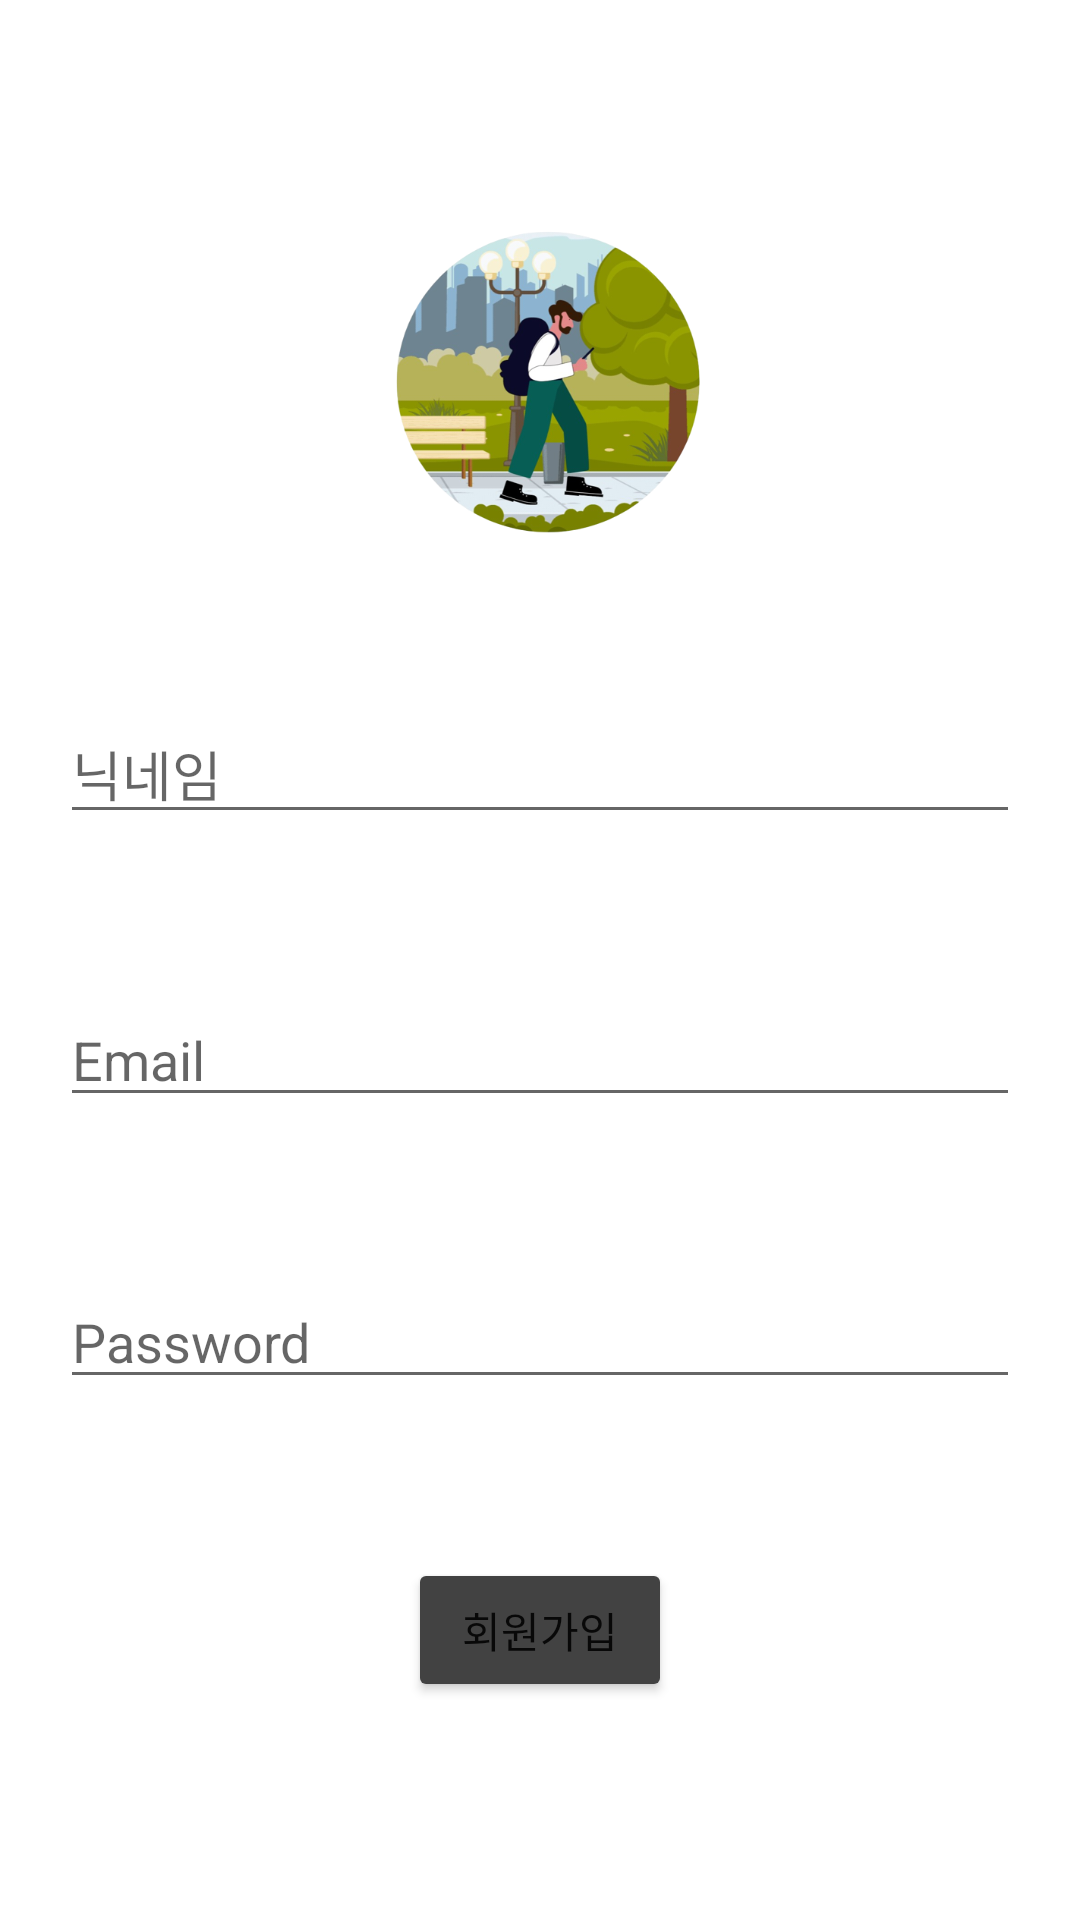

Icons on this 1080x1920 Android screen, each with the point to tap as [x,y]:
intro walk: [548,384]
